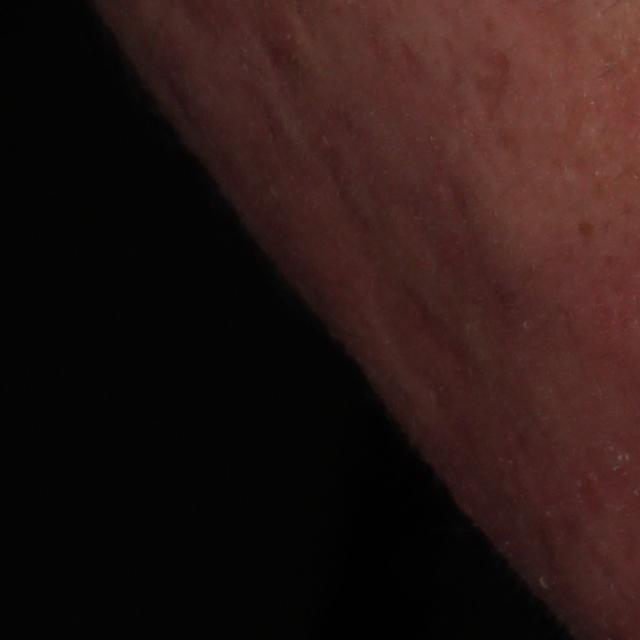atrophic_scar: (375, 279, 568, 523), (229, 4, 367, 254), (439, 162, 502, 299), (465, 45, 530, 164)
